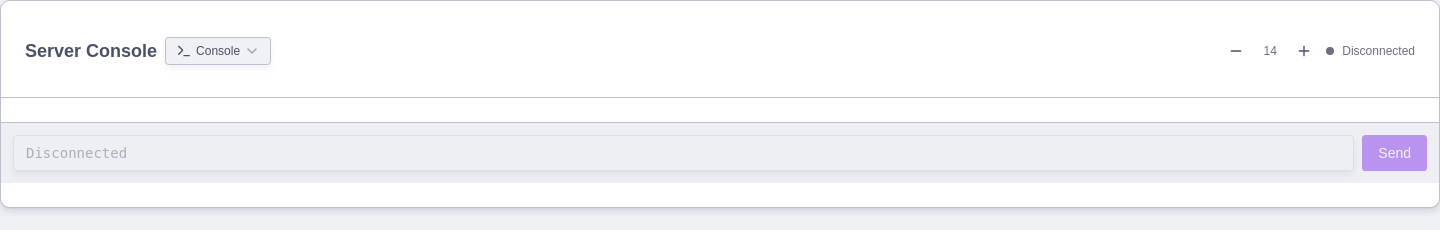
ConsolePanel › font size controls › increases font size when clicking increase button
The image size is (1440, 230).
Note: Click increase button
Click the button named "Increase font size" at (1304, 51), box [1290,37,1318,65]
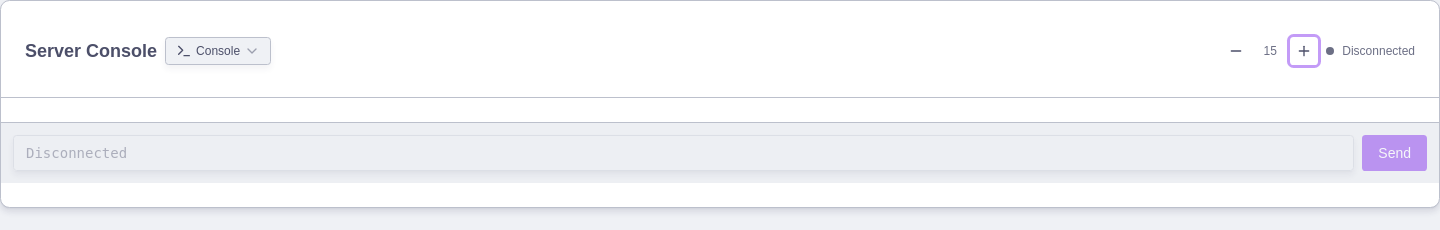
expect the text with test id "console-font-size" no longer shows "14": met
